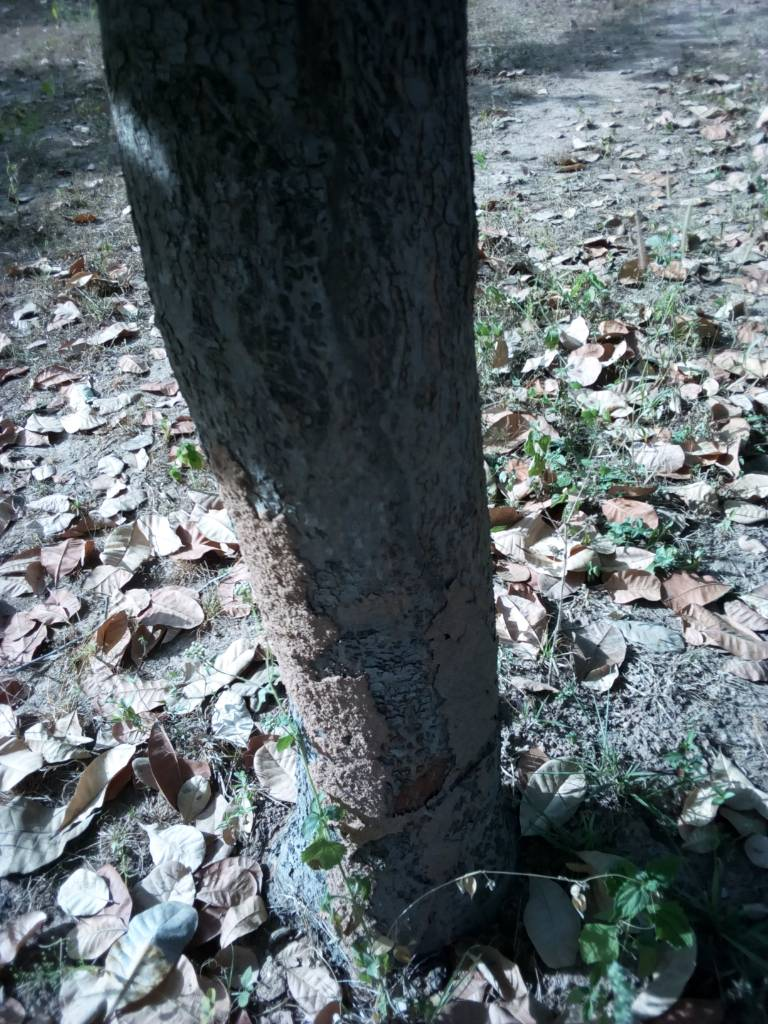Termites: (219, 452, 502, 789), (190, 142, 479, 436)
